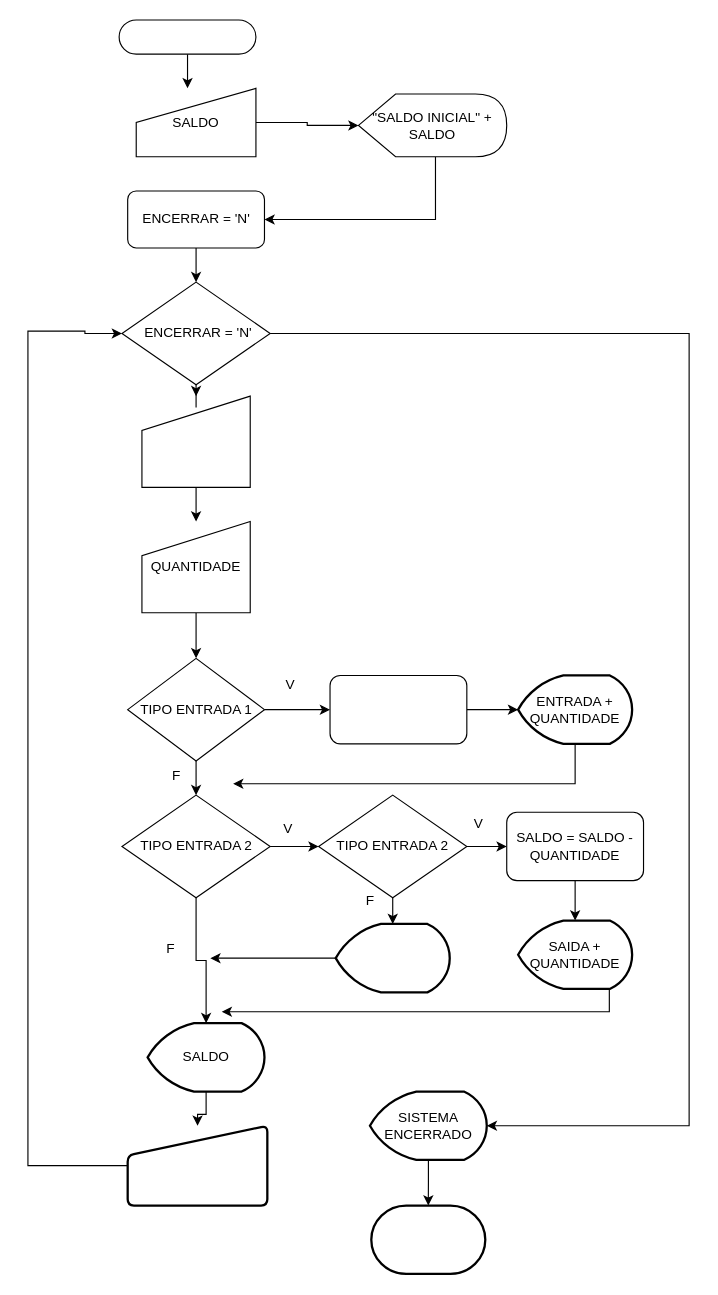
This 718x1295 diagram has some shape labels left out. The shapes that lost their labels are listed below. From the top down, each one's box as (x1, y1, x2, y2) in pixels, then its label:
(118, 19, 256, 54): INÍCIO
(141, 395, 250, 487): TIPO DE ENTRADA
(329, 674, 467, 744): SALDO = SALDO + QUANTIDADE
(334, 922, 450, 993): SALDO INSUFICIENTE
(126, 1124, 268, 1206): ENCERRAR? S/N
(370, 1204, 486, 1275): FIM
